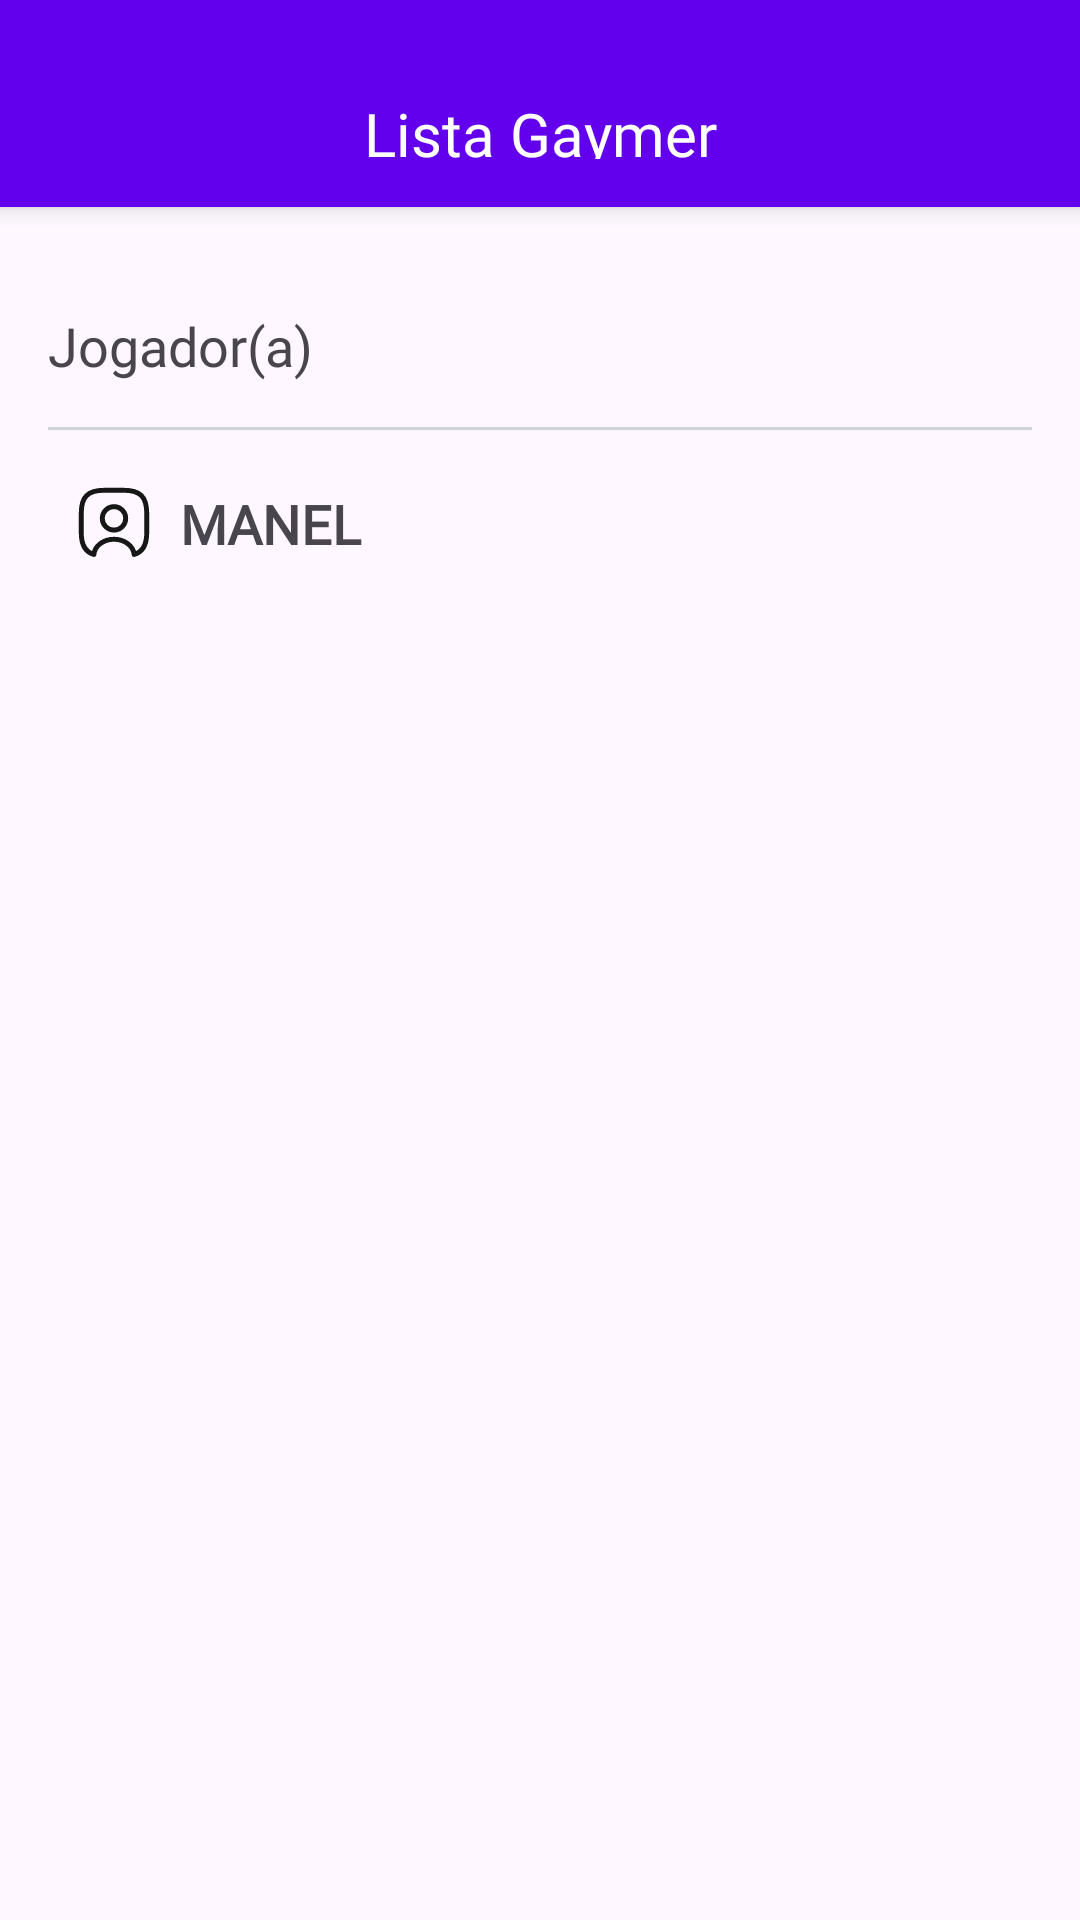

Named icons in this screenshot (1080w x 1920h) and their centers, (x=x, y=y):
Player: (x=114, y=522)
